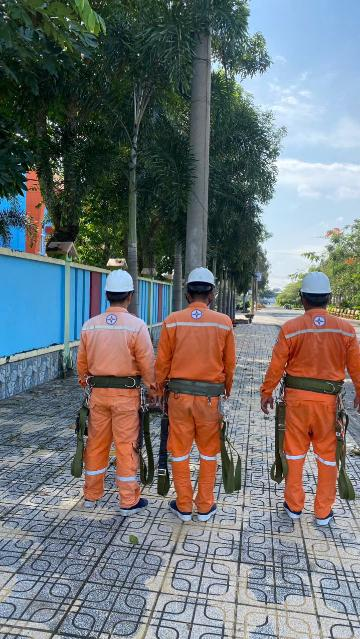harness: (166, 370, 226, 403), (275, 372, 347, 398), (77, 366, 142, 393)
helmet: (99, 260, 140, 301), (296, 267, 335, 298), (181, 261, 221, 288)
shoes: (165, 497, 195, 526), (193, 498, 221, 526), (313, 503, 342, 529), (278, 496, 303, 521), (114, 500, 150, 514), (77, 488, 97, 511)
